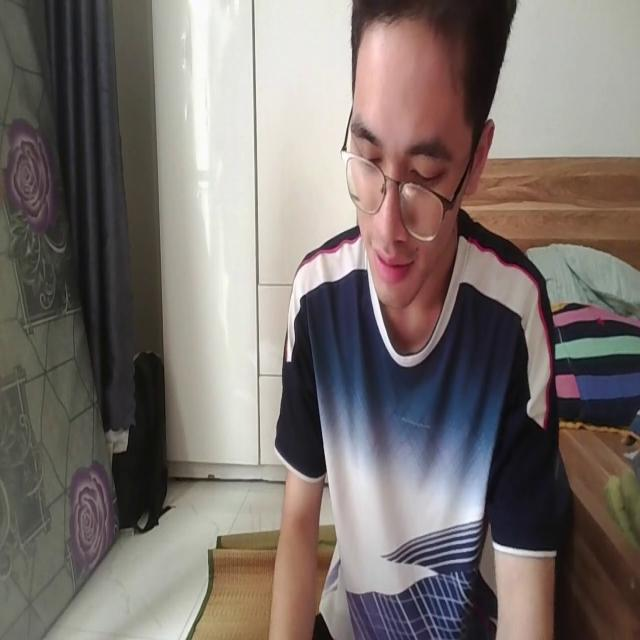student: (258, 1, 563, 640)
